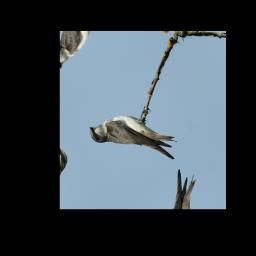Swallow: (87, 87, 183, 196)
